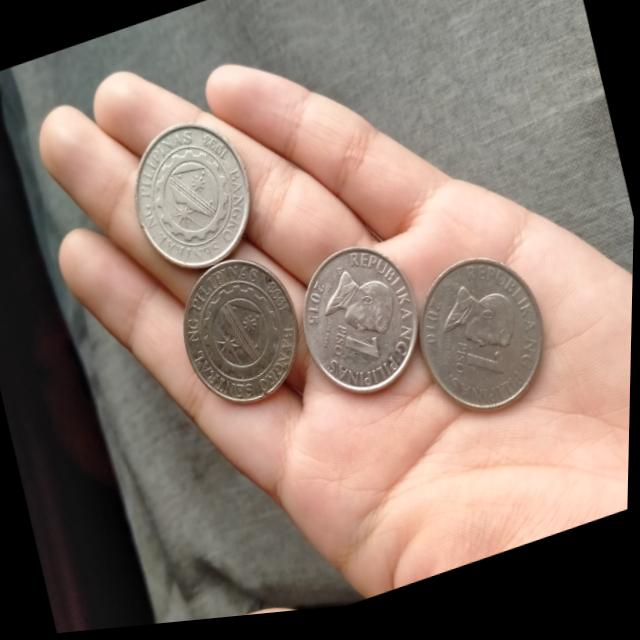1_Old_Back: (186, 263, 301, 404), (138, 132, 242, 260)
